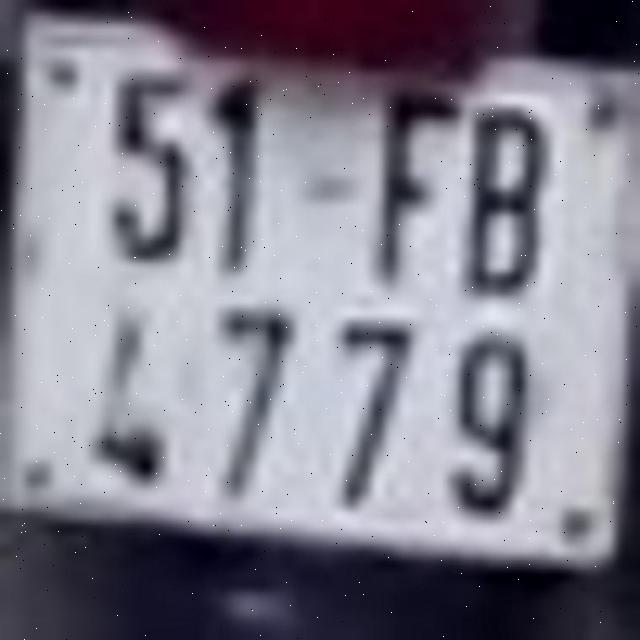1: (207, 69, 266, 275)
4: (90, 302, 172, 494)
5: (110, 63, 194, 265)
7: (329, 308, 418, 515), (208, 297, 296, 504)
8: (464, 91, 552, 300)
9: (444, 314, 535, 522)
F: (373, 81, 459, 286)
